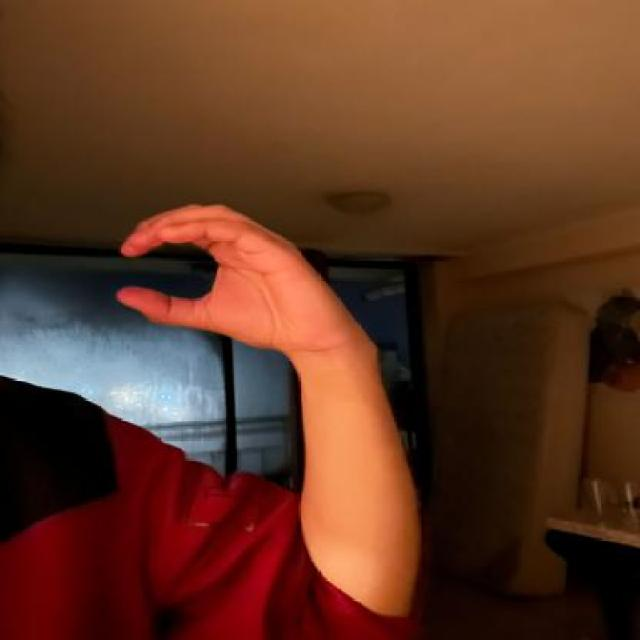C: (107, 194, 350, 360)
